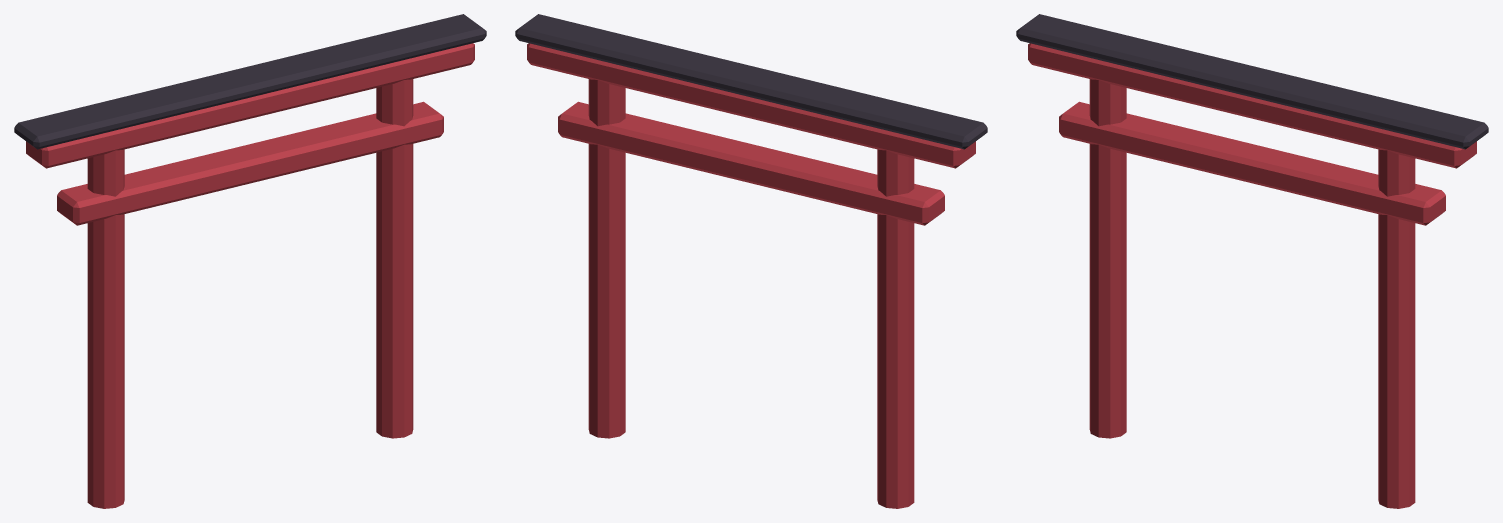
File: torii.glb
The picture shows the model from 3 angles, left to right: view 1: azimuth 30°, elevation 25°; view 2: azimuth 150°, elevation 25°; view 3: azimuth 330°, elevation 25°; orthographic projection.
Visible parts, largest first — view 1: torii-cap, torii-beam, torii-post.001, torii-post, torii-beam.001; view 2: torii-cap, torii-beam, torii-post.001, torii-post, torii-beam.001; view 3: torii-cap, torii-beam, torii-post, torii-post.001, torii-beam.001.
Boxes of the visible parts, x1=… form: torii-cap: x1=14, y1=14, x2=486, y2=149; torii-beam: x1=57, y1=101, x2=443, y2=225; torii-post.001: x1=376, y1=79, x2=413, y2=438; torii-post: x1=87, y1=149, x2=124, y2=508; torii-beam.001: x1=26, y1=43, x2=474, y2=168; torii-cap: x1=515, y1=14, x2=987, y2=149; torii-beam: x1=558, y1=101, x2=944, y2=225; torii-post.001: x1=588, y1=79, x2=625, y2=438; torii-post: x1=877, y1=149, x2=914, y2=508; torii-beam.001: x1=527, y1=43, x2=975, y2=168; torii-cap: x1=1016, y1=14, x2=1488, y2=149; torii-beam: x1=1059, y1=101, x2=1445, y2=225; torii-post: x1=1089, y1=79, x2=1126, y2=438; torii-post.001: x1=1378, y1=149, x2=1415, y2=508; torii-beam.001: x1=1028, y1=43, x2=1476, y2=168.
Size of the model in its own units: 4.4 by 3.62 by 0.4.
